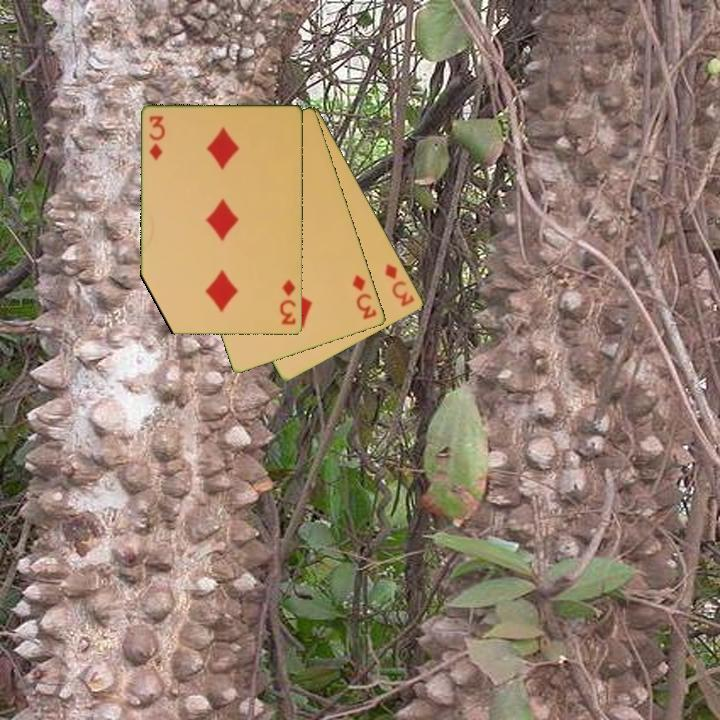3d: (382, 260, 418, 309), (349, 272, 380, 322), (276, 276, 299, 328), (146, 113, 167, 163)
